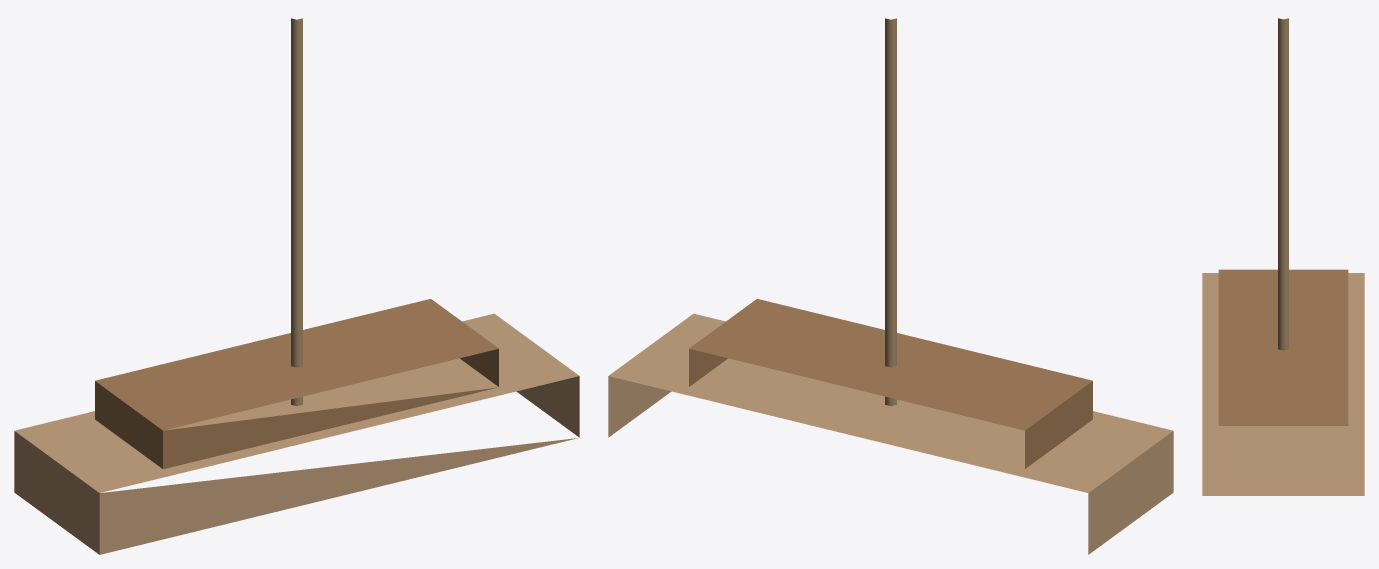
Rendered from ASTX_BOAT_SAIL.glb.
The picture shows the model from 3 angles, left to right: view 1: azimuth 30°, elevation 25°; view 2: azimuth 150°, elevation 25°; view 3: azimuth 270°, elevation 25°; orthographic projection. The views are drawn at different scales.
Visible parts, largest first — view 1: ASTX_BOAT_SAIL_hull, ASTX_BOAT_SAIL_gunwale, ASTX_BOAT_SAIL_mastPIVOT; view 2: ASTX_BOAT_SAIL_hull, ASTX_BOAT_SAIL_gunwale, ASTX_BOAT_SAIL_mastPIVOT; view 3: ASTX_BOAT_SAIL_gunwale, ASTX_BOAT_SAIL_hull, ASTX_BOAT_SAIL_mastPIVOT.
Boxes of the visible parts, <box> form: ASTX_BOAT_SAIL_hull: <box>14,313,579,554</box>; ASTX_BOAT_SAIL_gunwale: <box>95,299,498,469</box>; ASTX_BOAT_SAIL_mastPIVOT: <box>291,18,302,405</box>; ASTX_BOAT_SAIL_hull: <box>608,313,1173,554</box>; ASTX_BOAT_SAIL_gunwale: <box>689,299,1092,468</box>; ASTX_BOAT_SAIL_mastPIVOT: <box>885,18,896,405</box>; ASTX_BOAT_SAIL_gunwale: <box>1218,269,1348,425</box>; ASTX_BOAT_SAIL_hull: <box>1202,273,1364,495</box>; ASTX_BOAT_SAIL_mastPIVOT: <box>1278,18,1288,350</box>.
Size of the model in its own units: 6.5 by 5.8 by 2.
